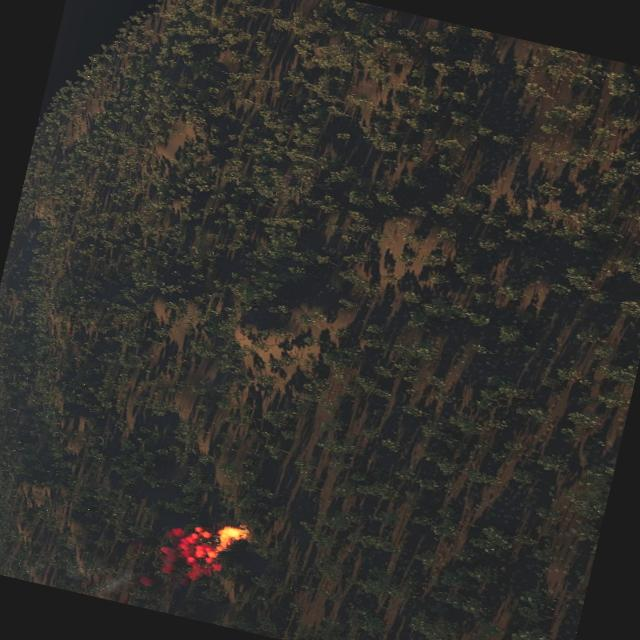fire: (214, 521, 247, 546)
smoke: (142, 514, 230, 600)
